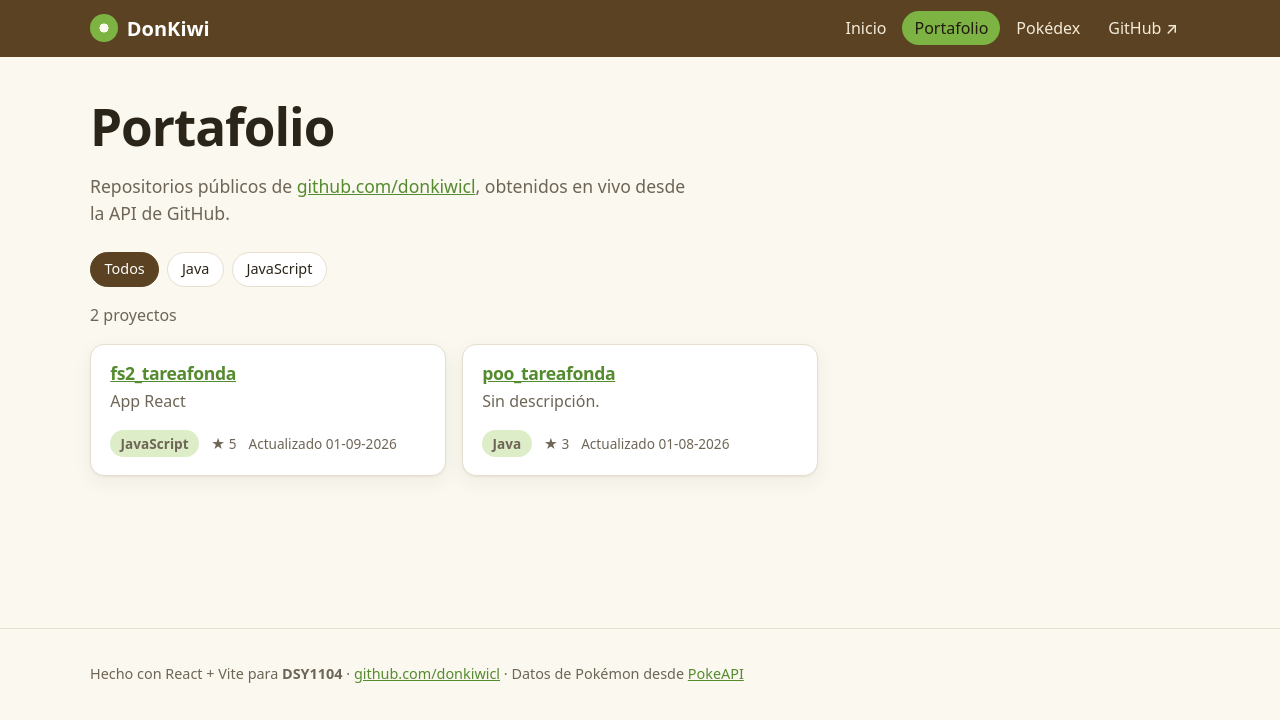
Portafolio › muestra repos sin forks y filtra por lenguaje
Check: the link "fs2_tareafonda" is shown, box left=110, top=360, right=236, bottom=384
Click the button "Java": point(196, 269) left=167, top=252, right=224, bottom=287
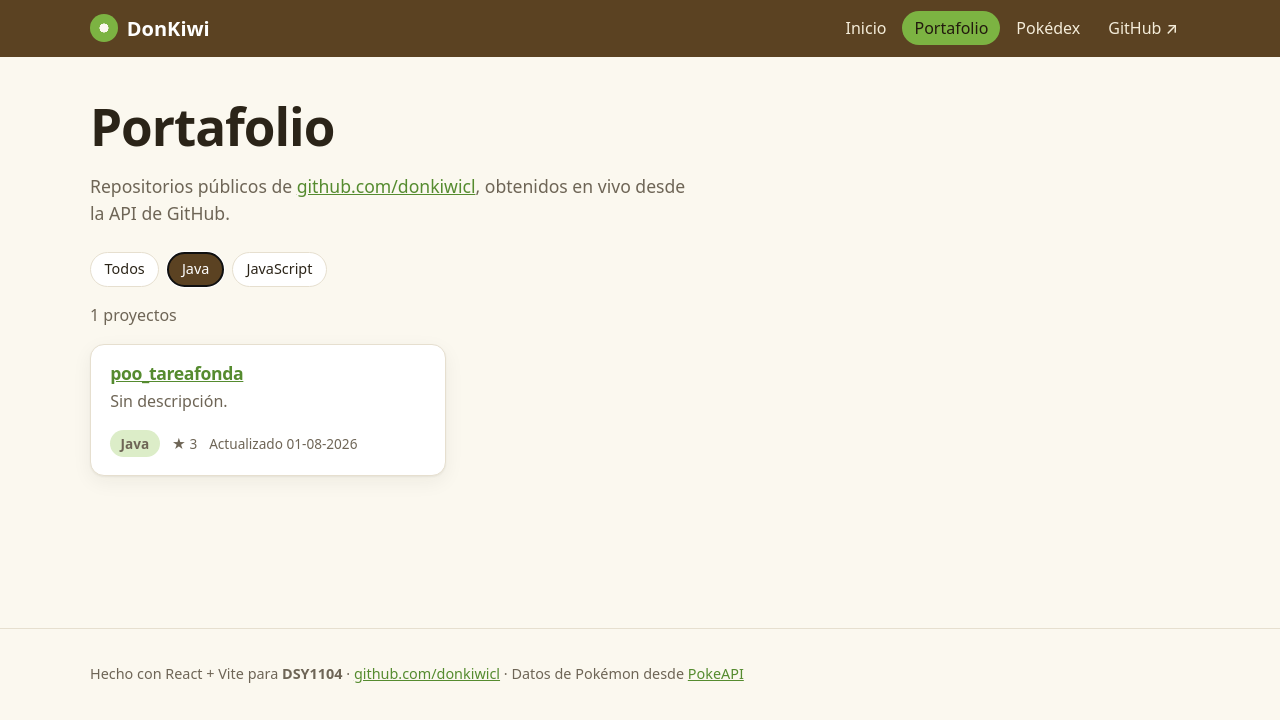
Check: the link "poo_tareafonda" is shown, box left=110, top=360, right=243, bottom=384
Check: the link "fs2_tareafonda" is gone
